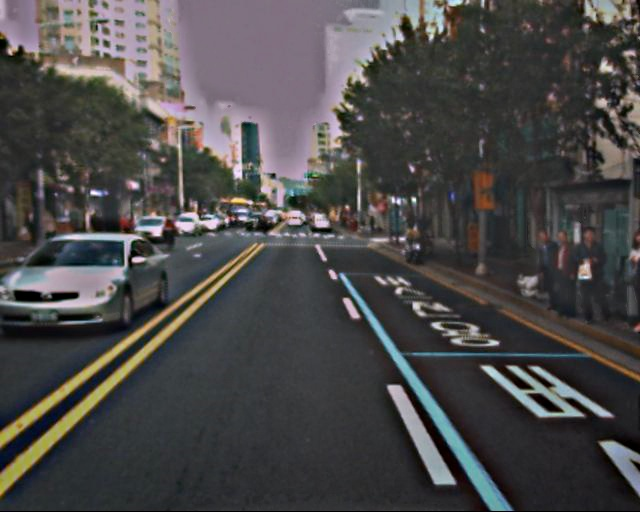person: (533, 227, 640, 335)
